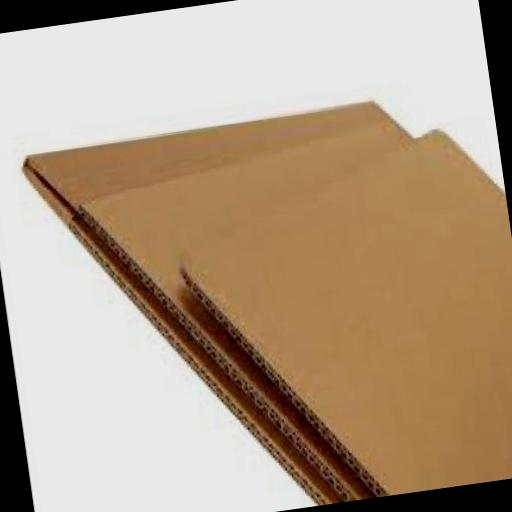cardboard: (17, 98, 466, 512), (75, 143, 512, 512), (162, 123, 512, 512)
